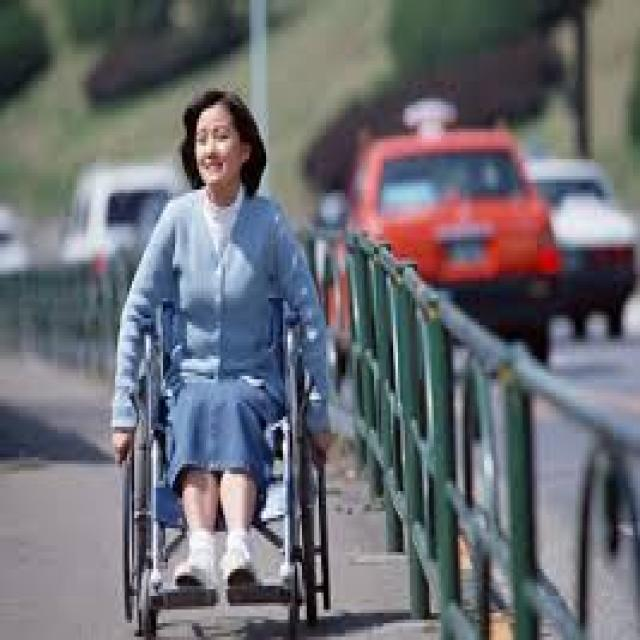wheelchairs: (110, 288, 338, 636)
